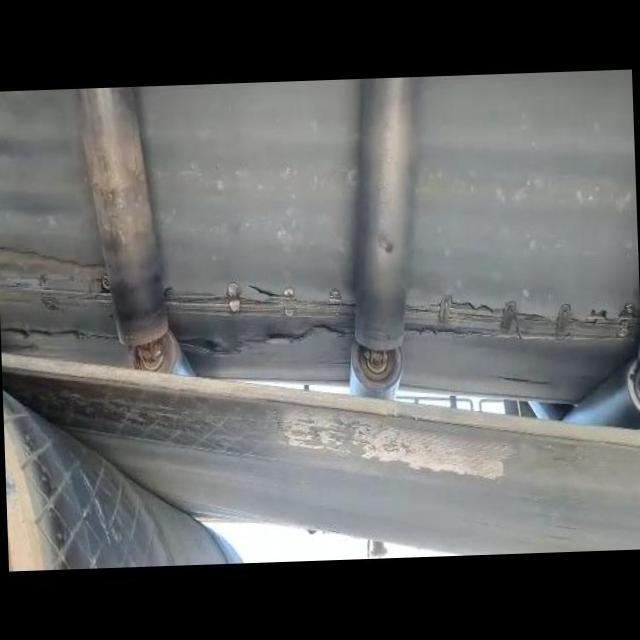Tear: (401, 286, 640, 348), (160, 270, 362, 322), (0, 246, 111, 303), (174, 325, 363, 357), (0, 321, 124, 354), (488, 366, 552, 391)
